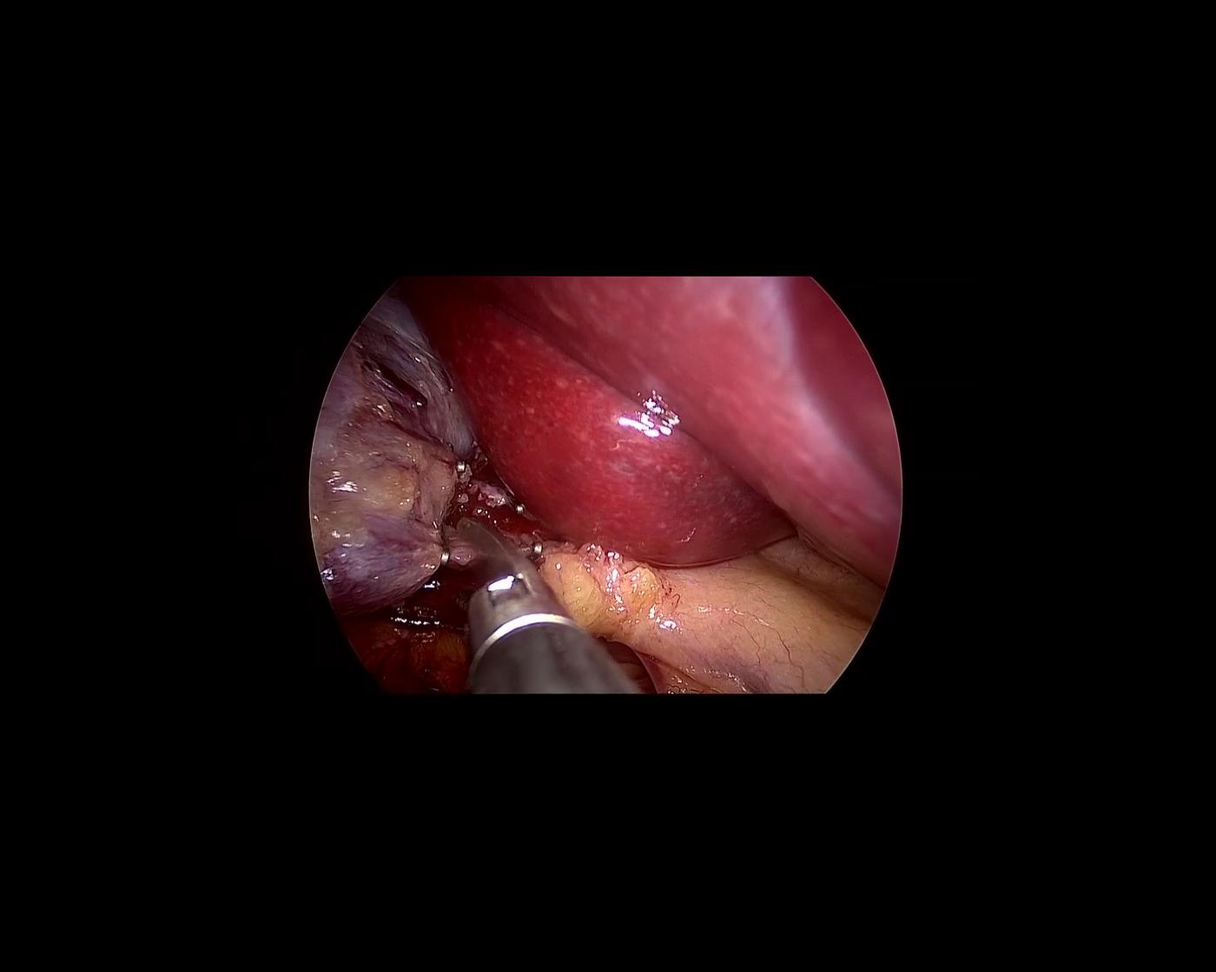Gallbladder: (273, 282, 500, 626)
Liver: (402, 272, 899, 587)
